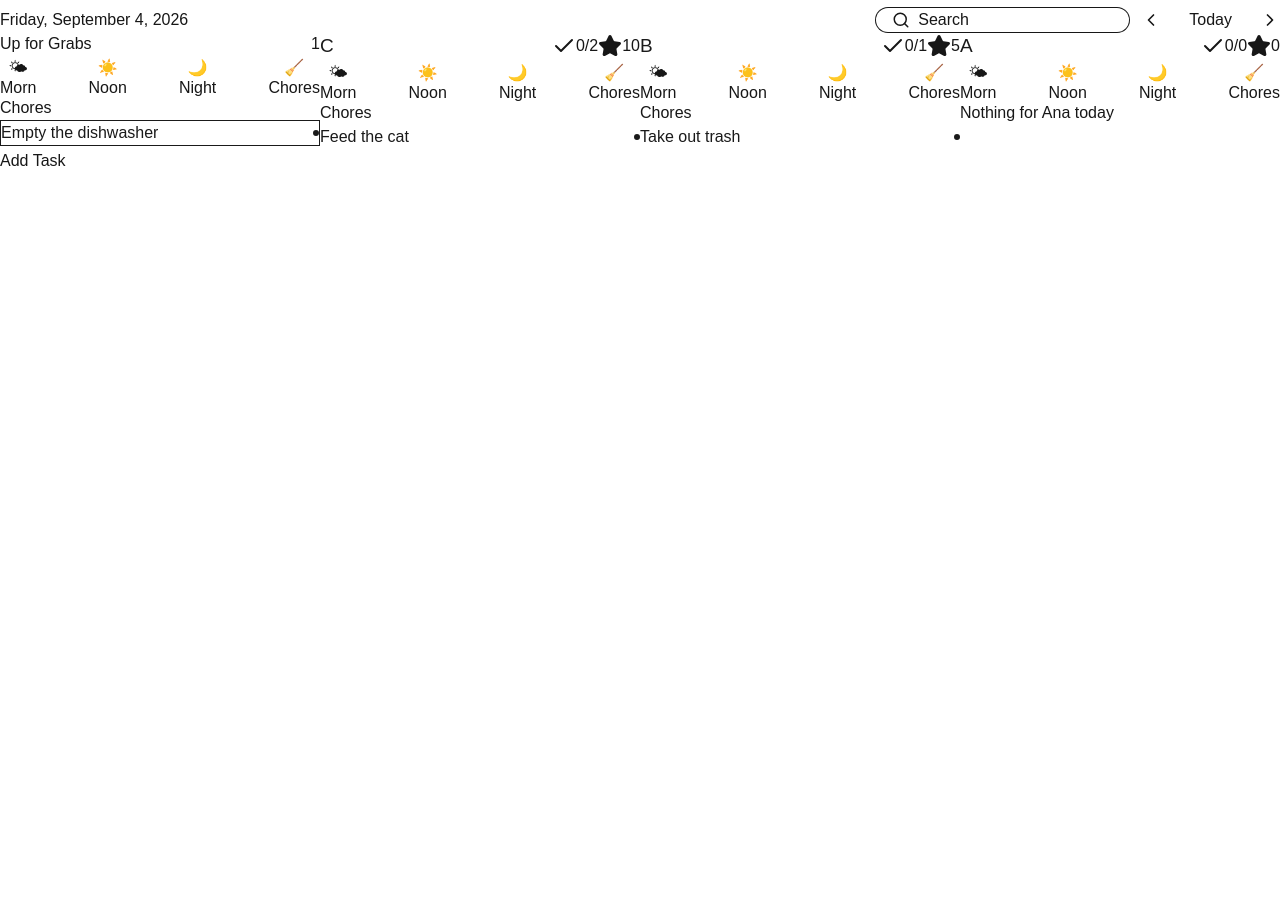
Test case: TasksBoard › says whose task it is when the server refuses, and stores nothing (FR-351)
Click the button named "Complete Take out trash": (957, 136) [954,134,960,140]
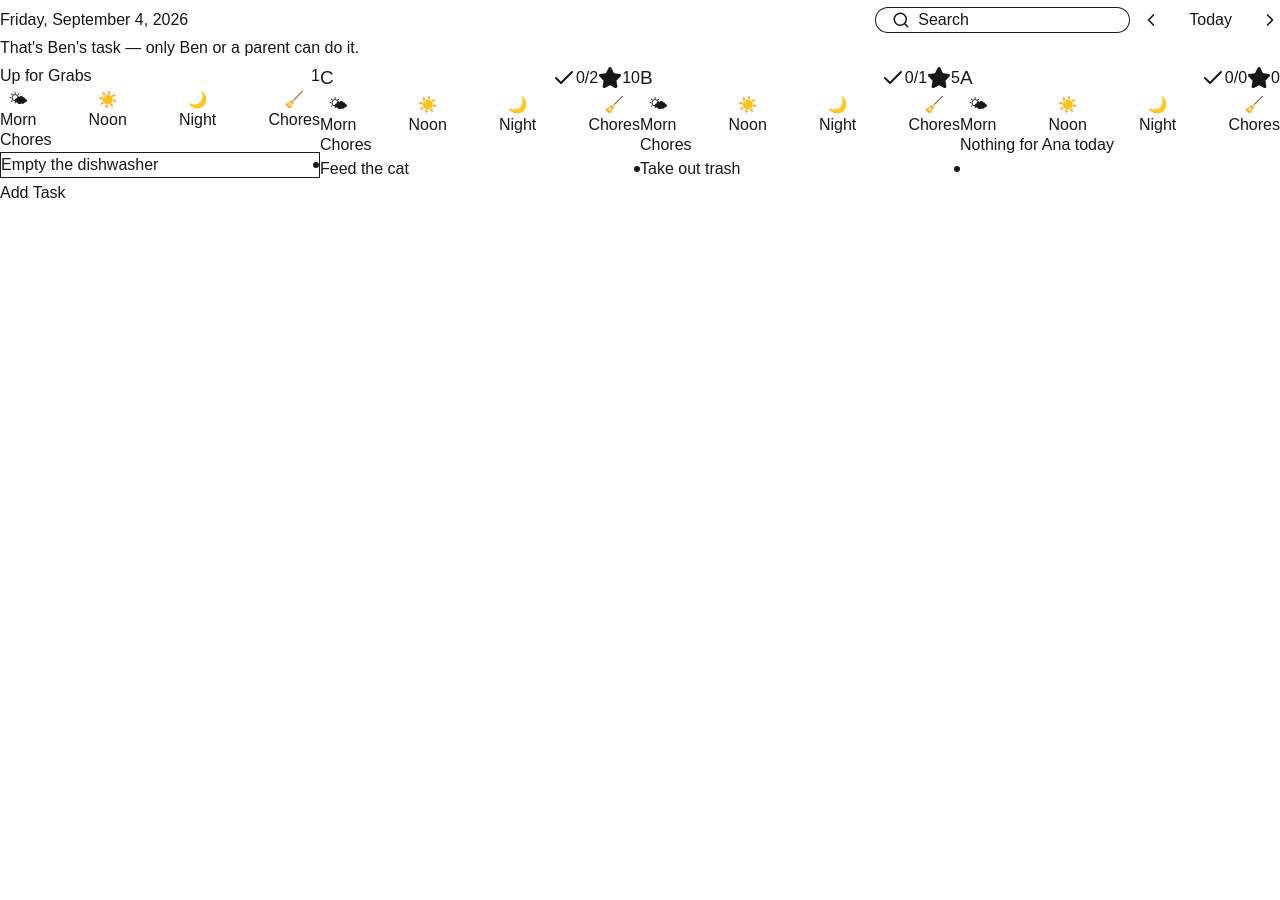
Now the message reads "That's Ben's task — only Ben or a parent can do it.", box [0,39,359,56]
Click the button "Feed the cat": (364, 168) [320,156,634,180]
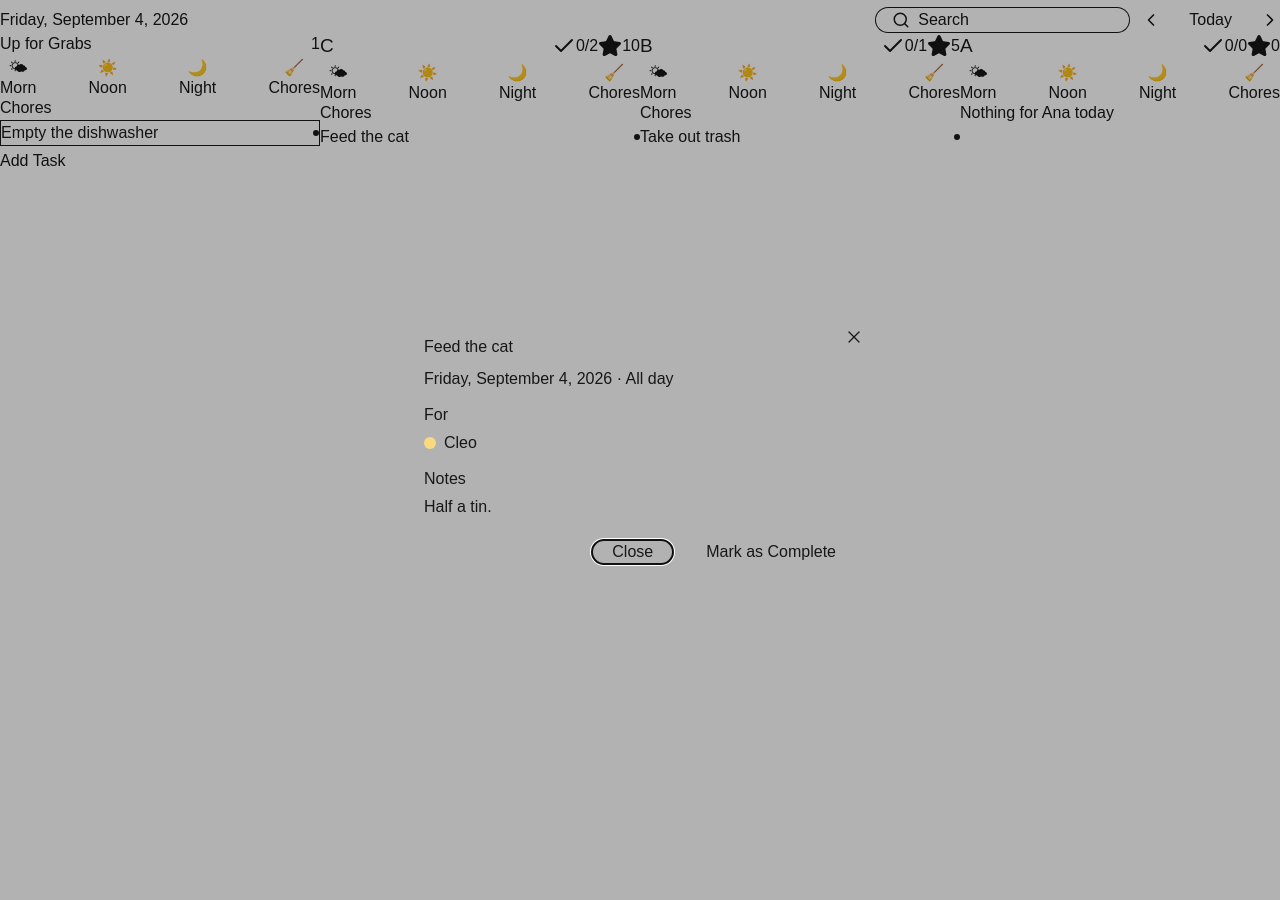
Now the message "That's Ben's task — only Ben or a parent can do it." is gone
